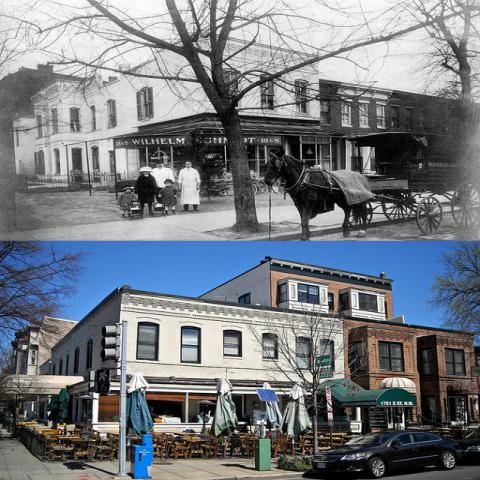car: (312, 429, 470, 478), (458, 424, 479, 463)
